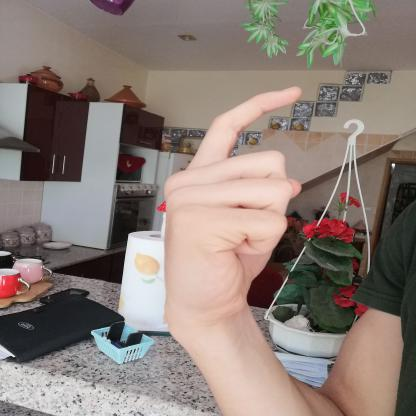RAA: (149, 73, 315, 330)
